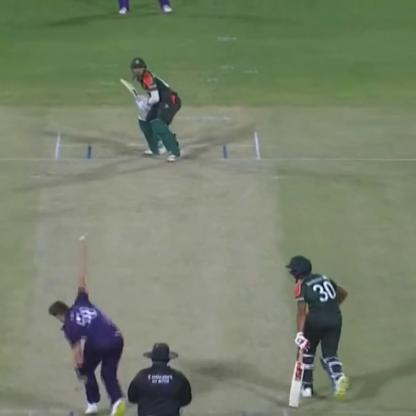ball: (76, 233, 88, 244)
bat: (284, 332, 312, 409), (110, 69, 148, 114)
pitch: (23, 126, 306, 415)
